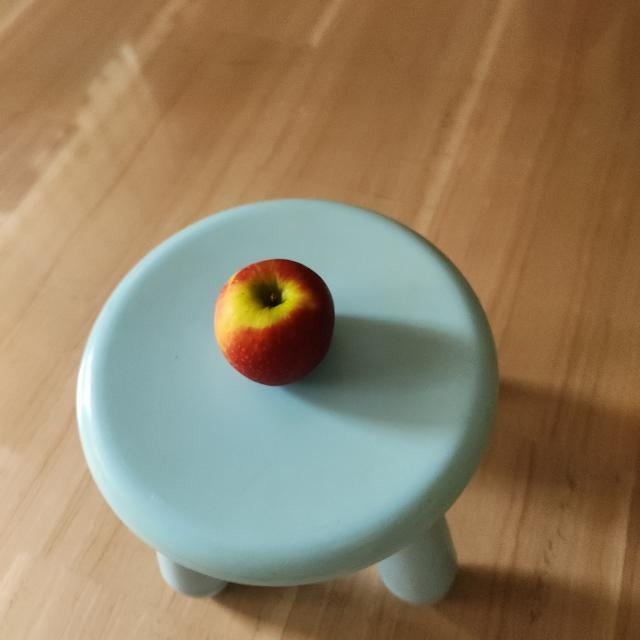apple: (208, 251, 346, 394)
